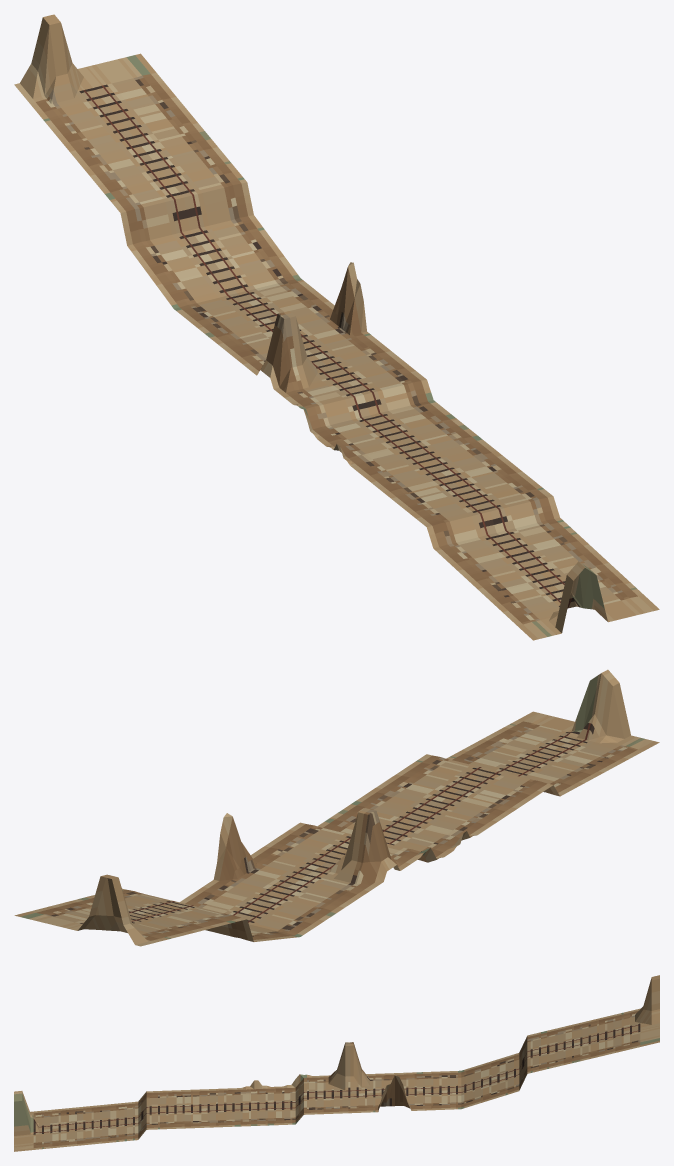
File: liner_ore_chute.glb
3 renders of one model, top to bottom at view 1: azimuth 30°, elevation 25°; view 2: azimuth 150°, elevation 25°; view 3: azimuth 270°, elevation 25°, orthographic. The views are drawn at different scales.
Parts seen in each view (by area): view 1: liner_ore_chute_body; view 2: liner_ore_chute_body; view 3: liner_ore_chute_body.
Boxes of the visible parts, x1=… form: liner_ore_chute_body: x1=14, y1=14, x2=659, y2=640; liner_ore_chute_body: x1=14, y1=669, x2=659, y2=946; liner_ore_chute_body: x1=14, y1=975, x2=659, y2=1151.
Size of the model in its own units: 22 by 39.18 by 156.
